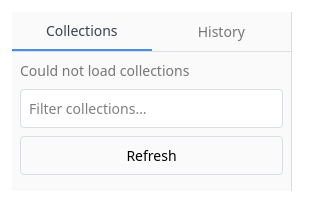
SidebarShell collections load › shows muted error when collections fetch fails but history tab remains available
Expected: the text "Could not load collections" is shown, x1=20 y1=61 x2=189 y2=80
Step 1. Click the tab "History" → click(221, 32), box x1=152 y1=12 x2=291 y2=51
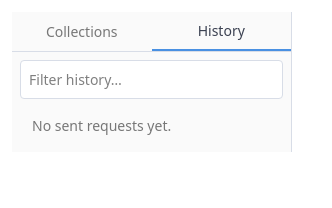
Result: the text "No sent requests yet." is shown at x1=32 y1=116 x2=171 y2=135
